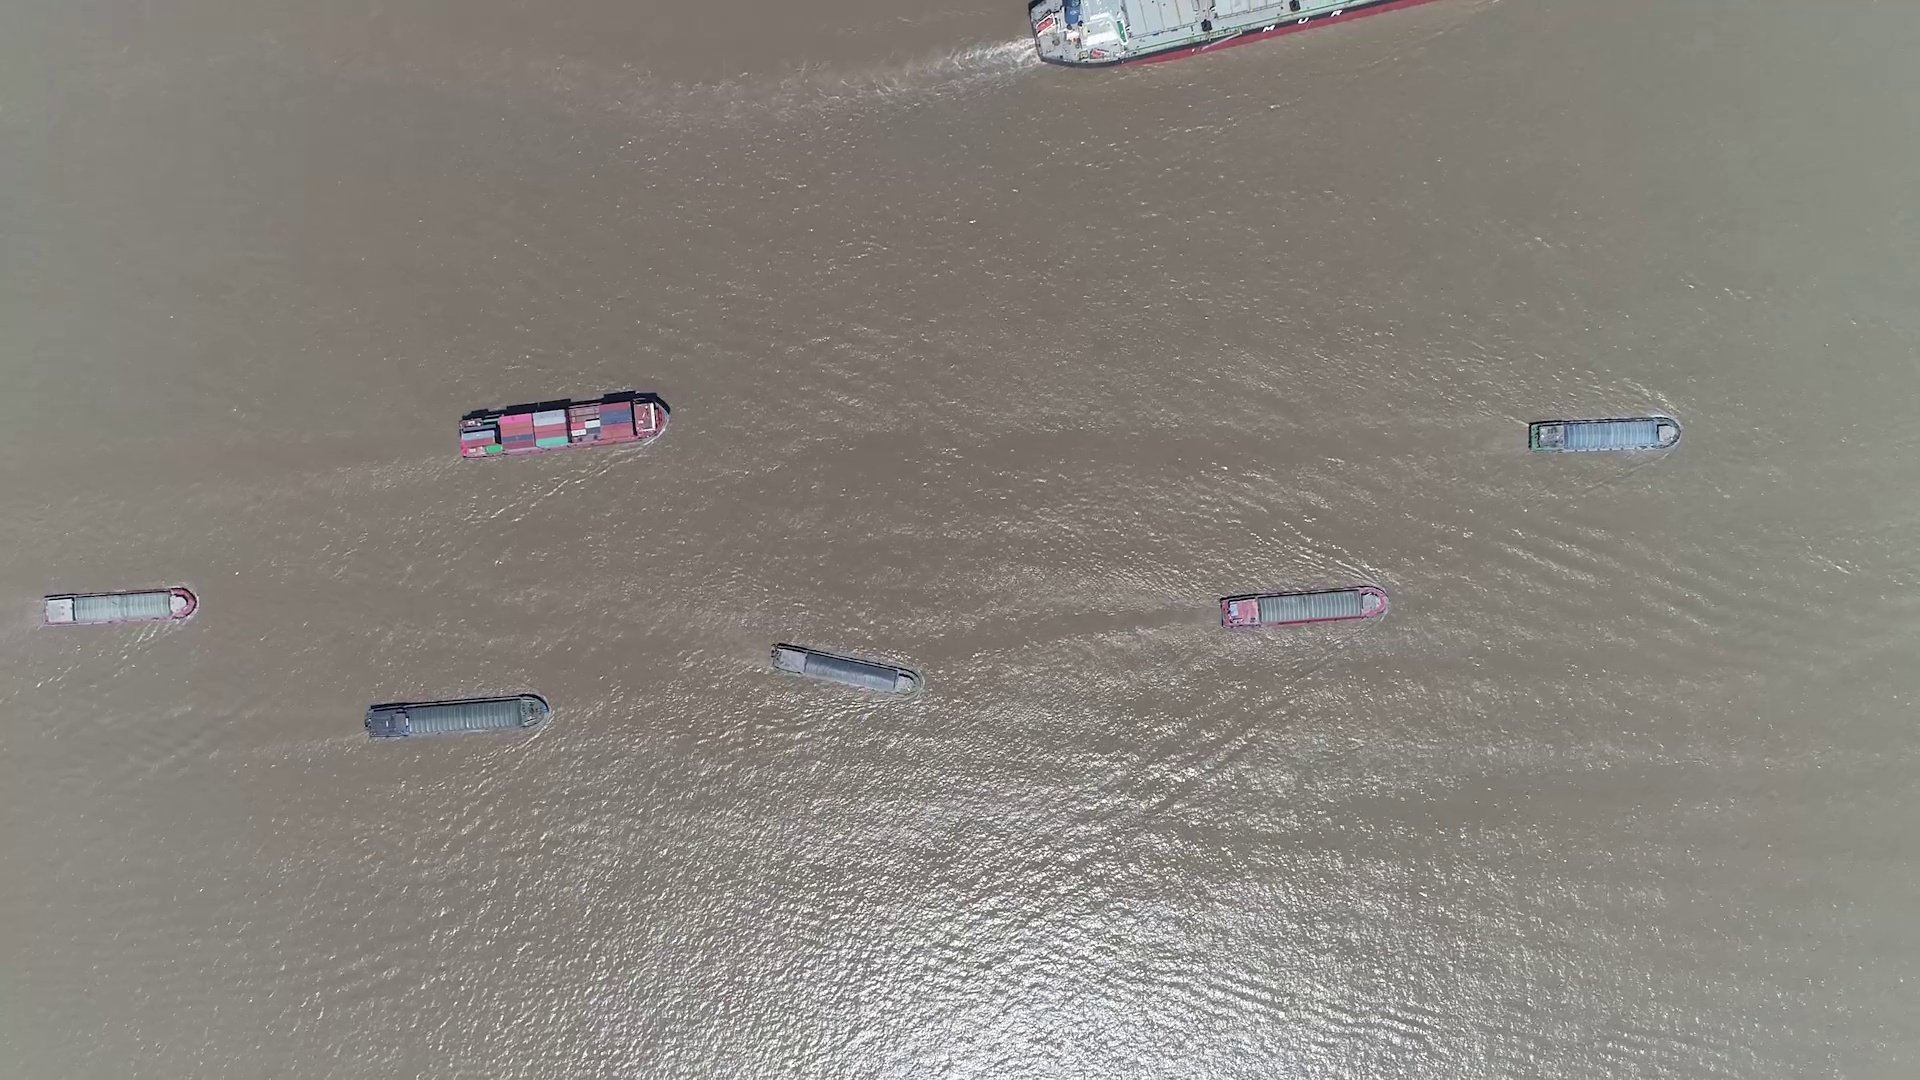ship: (1027, 1, 1423, 67), (458, 392, 670, 458), (769, 642, 922, 698), (367, 694, 549, 740), (1221, 585, 1390, 629), (1528, 417, 1680, 454), (40, 589, 196, 625)
